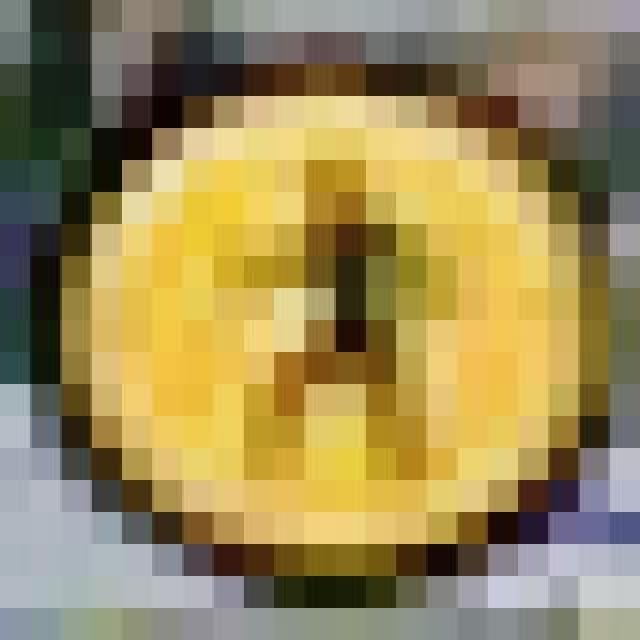pedestrian crossing: (32, 32, 580, 576)
